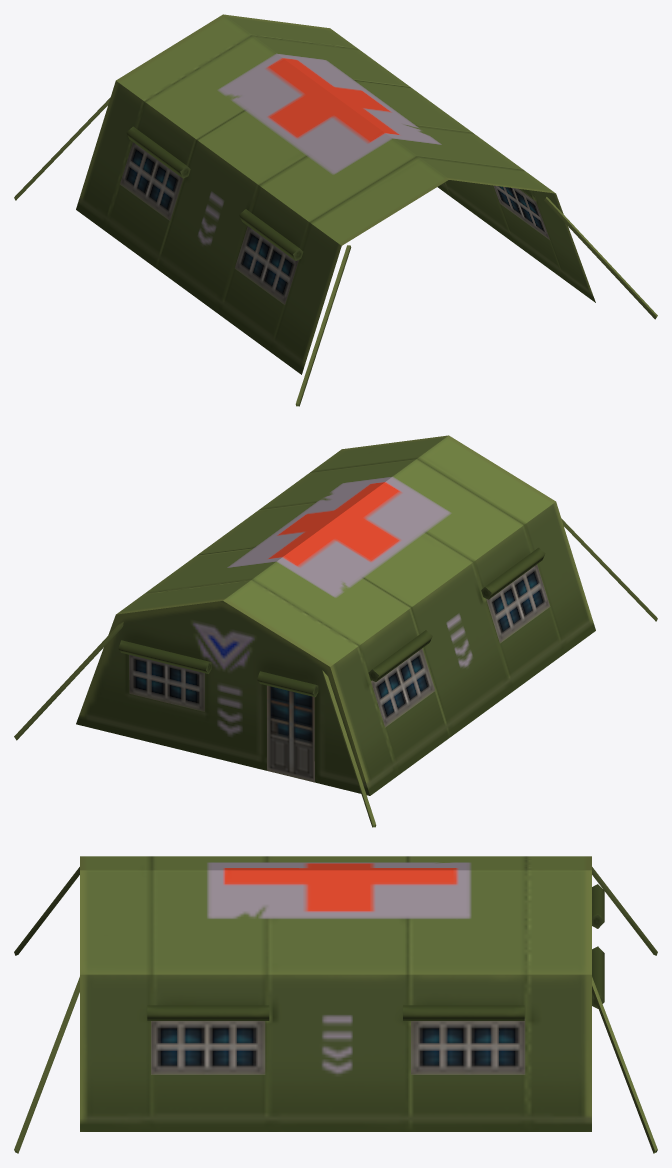
The model's file is tent_01.fbx.
3 renders of one model, top to bottom at view 1: azimuth 30°, elevation 25°; view 2: azimuth 150°, elevation 25°; view 3: azimuth 270°, elevation 25°, orthographic. The views are drawn at different scales.
Parts seen in each view (by area): view 1: tent_01; view 2: tent_01; view 3: tent_01.
Part boxes in pixels (x1,y1,x2,y2): tent_01: (14,14,657,406); tent_01: (14,435,657,827); tent_01: (14,856,657,1153).
Bounding box in the file's own units: 12.57 × 5.39 × 17.08.
